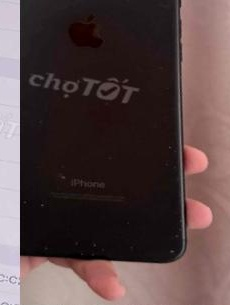scratch: (140, 136, 206, 261), (37, 227, 136, 270), (20, 141, 77, 188), (20, 97, 50, 146), (151, 60, 180, 95), (20, 192, 47, 213), (98, 146, 119, 165), (117, 214, 130, 225)
